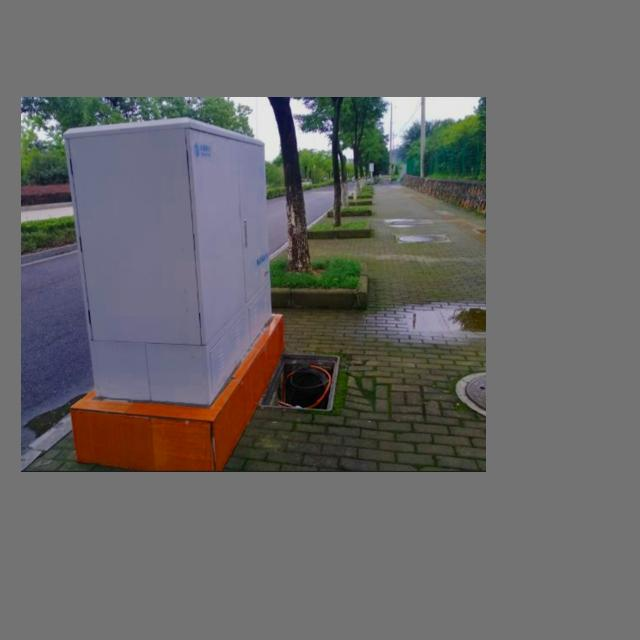lose: (257, 352, 339, 413)
